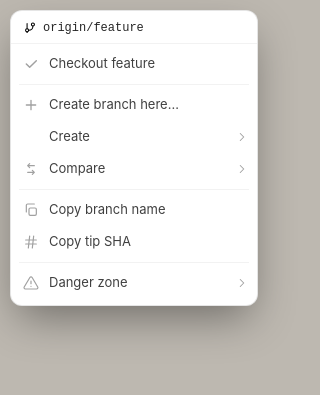
Scenario: BranchContextMenu › hides the local Delete for a remote-tracking ref
Step 1. Click the menu item "Danger zone" → (134, 283), box 11,267 -> 257,299
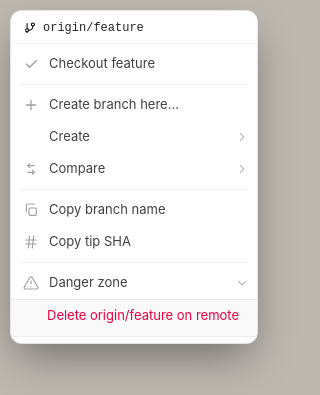
Expected: the menu item "Delete origin/feature on remote" is shown, 11,300 -> 257,332
